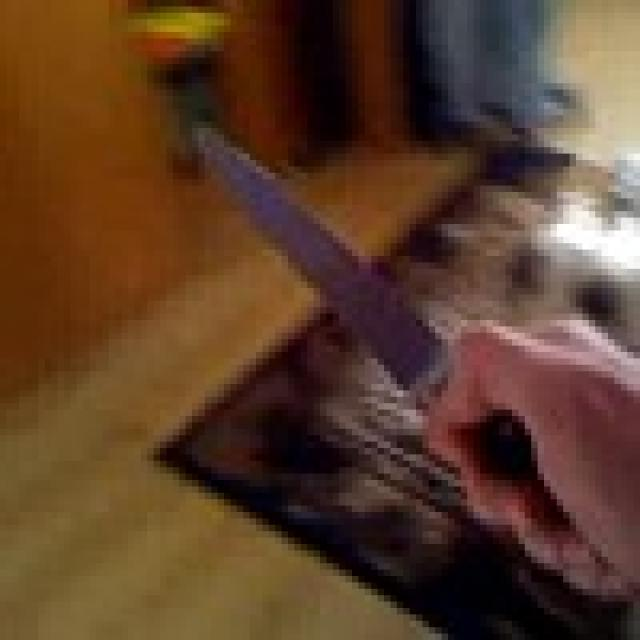knife: (144, 74, 480, 474)
